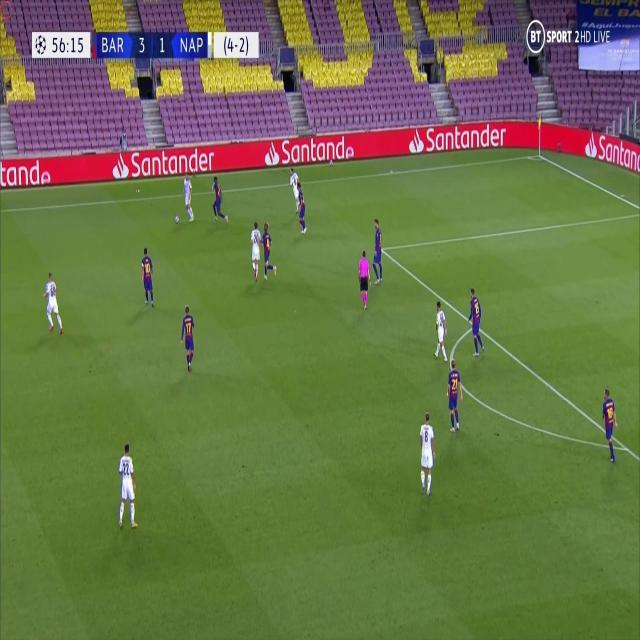ball: (173, 212, 180, 224)
player: (116, 440, 138, 530), (417, 409, 437, 496), (42, 270, 64, 336), (466, 284, 485, 357), (601, 383, 618, 463), (445, 358, 462, 433), (179, 303, 197, 373), (369, 215, 385, 285), (434, 299, 449, 362), (356, 247, 371, 310), (261, 220, 276, 282), (140, 246, 155, 308), (210, 174, 228, 225), (248, 219, 262, 280), (182, 172, 196, 223), (296, 184, 308, 236), (288, 167, 302, 210)
